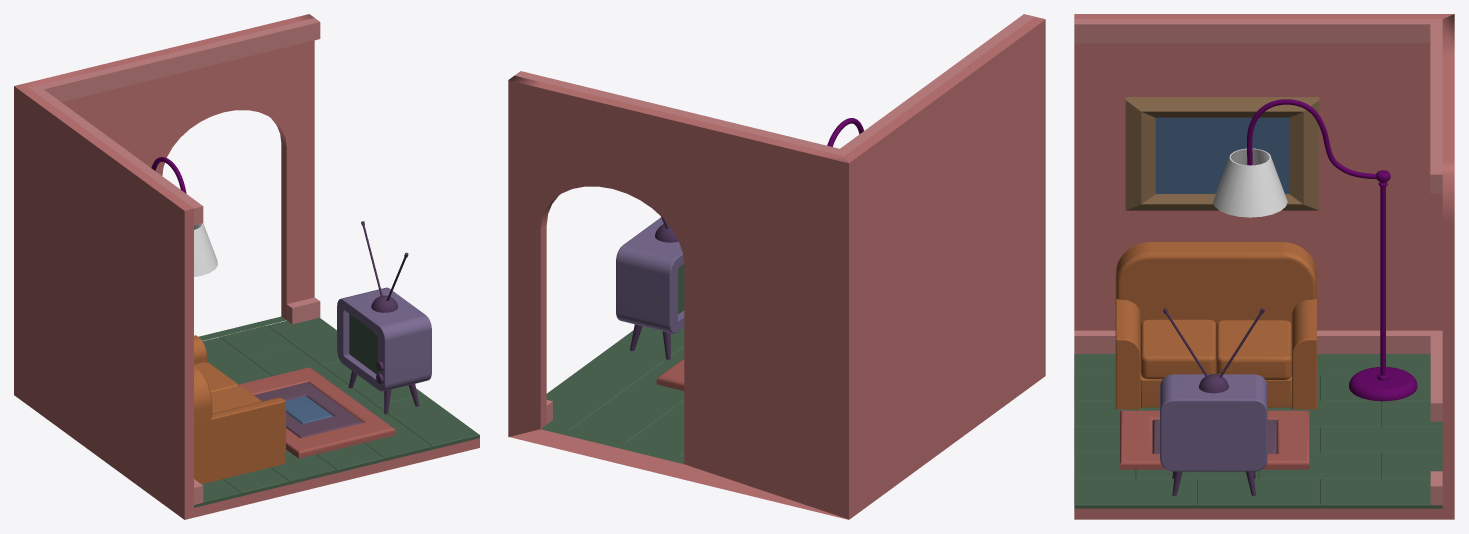
File: IndoorSceneModel.fbx
3 views of the same model, side by side, from view 1: azimuth 30°, elevation 25°; view 2: azimuth 150°, elevation 25°; view 3: azimuth 270°, elevation 25° (orthographic). The views are drawn at different scales.
Visible parts, largest first — view 1: WhiteboxRoom, DoorWall, FloorBoard01 (×6), TV, BaseBoard03, CouchOutsideArm, FloorBoard03 (×3), OuterRug, Middle, FloorBoard02 (×2), BaseBoard01, CouchBack (+7 smaller); view 2: DoorWall, WhiteboxRoom, FloorBoard03 (×3), TV, FloorBoard02, BaseBoard03, BaseBoard01, FloorBoard04; view 3: WhiteboxRoom, CouchBack, FloorBoard03 (×6), Frame, TV, FloorBoard01 (×6), BaseBoard01, Picture, DoorWall, FloorBoard02 (×2), OuterRug, OutsideCusion (+14 smaller).
Boxes of the visible parts, <box> form: WhiteboxRoom: <box>14,86,479,519</box>; DoorWall: <box>15,14,314,340</box>; FloorBoard01 (×6): <box>194,394,479,507</box>; TV: <box>337,287,431,391</box>; BaseBoard03: <box>29,18,320,101</box>; CouchOutsideArm: <box>194,397,285,483</box>; FloorBoard03 (×3): <box>203,317,348,388</box>; OuterRug: <box>238,367,395,458</box>; Middle: <box>254,382,363,437</box>; FloorBoard02 (×2): <box>322,361,424,428</box>; BaseBoard01: <box>30,87,203,225</box>; CouchBack: <box>194,366,212,483</box>; DoorWall: <box>508,75,848,519</box>; WhiteboxRoom: <box>510,16,1045,519</box>; FloorBoard03 (×3): <box>546,361,684,456</box>; TV: <box>616,217,684,333</box>; FloorBoard02: <box>578,326,684,383</box>; BaseBoard03: <box>515,71,847,155</box>; BaseBoard01: <box>833,14,1034,155</box>; FloorBoard04: <box>570,407,655,443</box>; WhiteboxRoom: <box>1074,14,1453,519</box>; CouchBack: <box>1115,242,1316,325</box>; FloorBoard03 (×6): <box>1258,354,1442,508</box>; Frame: <box>1125,97,1319,210</box>; TV: <box>1160,374,1267,471</box>; FloorBoard01 (×6): <box>1074,354,1196,508</box>; BaseBoard01: <box>1074,19,1442,43</box>; Picture: <box>1155,117,1289,193</box>; DoorWall: <box>1442,14,1454,519</box>; FloorBoard02 (×2): <box>1135,469,1319,508</box>; OuterRug: <box>1120,410,1309,469</box>; OutsideCusion: <box>1140,319,1216,379</box>.
Size of the model in its own units: 6.2 by 6.2 by 6.2.
